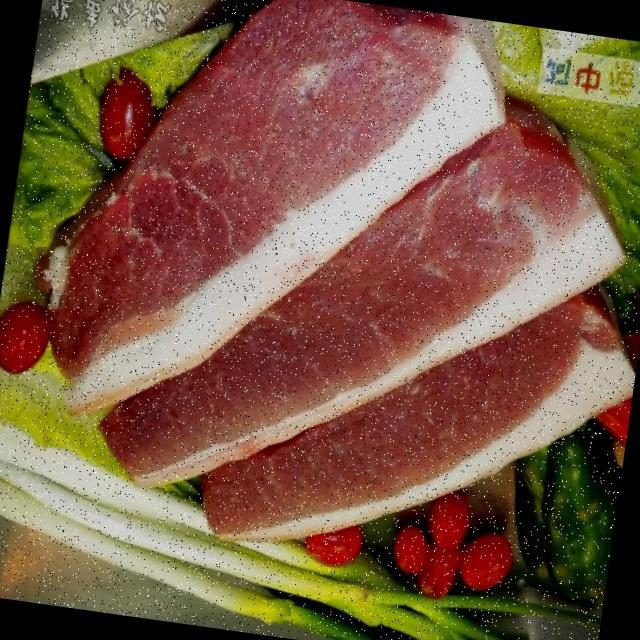pork: (35, 0, 501, 416), (92, 120, 624, 484), (197, 282, 633, 541)
